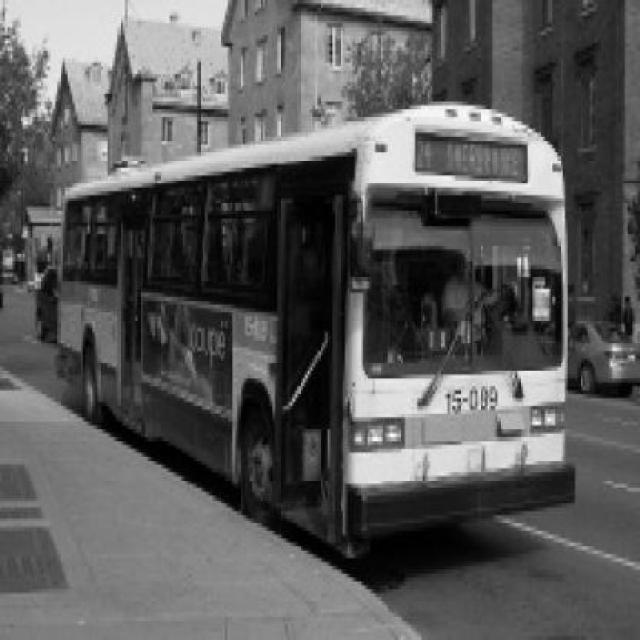Bus: (55, 103, 577, 564)
